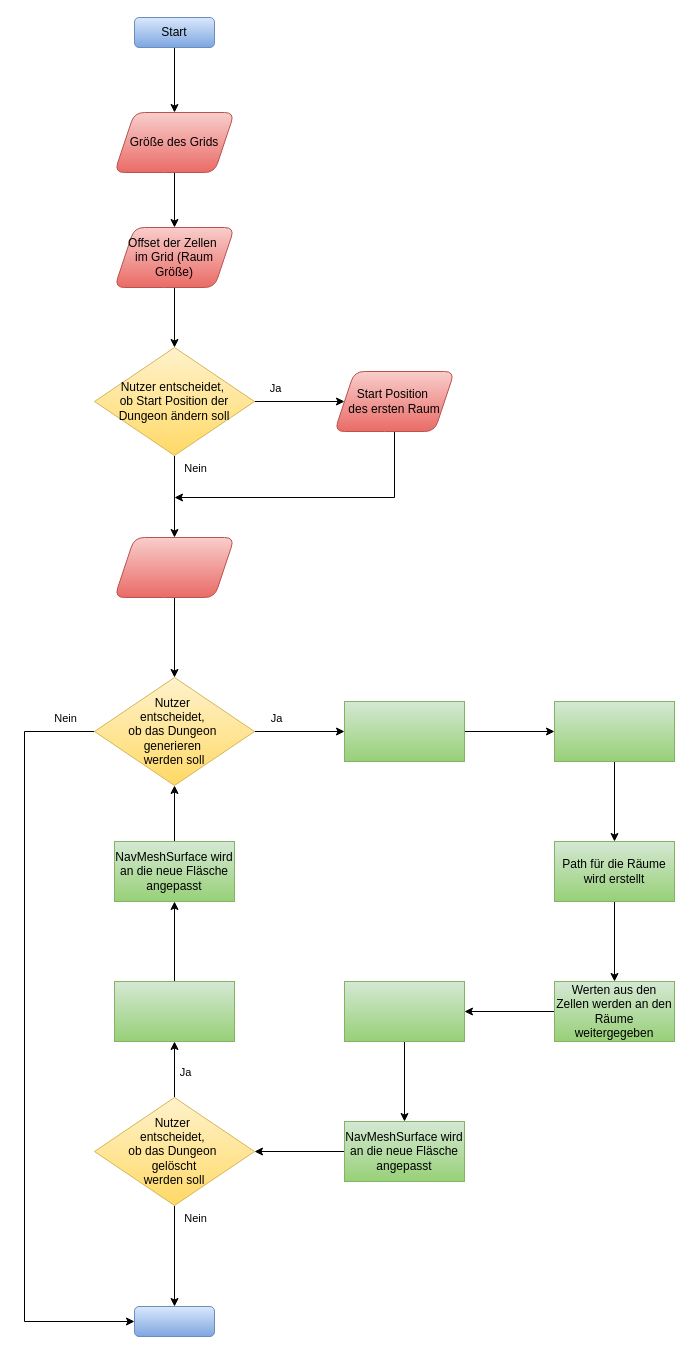
The diagram is 692 pixels wide and 1354 high, and some of its shapes have lost their labels. The shapes that lost their labels are listed below. From the top down, each one's centre as x and y in pixels, then its label:
point 174,567: Prefab der Räume
point 404,731: Werten der Eingabefelder werden von den Parametern weitergegeben
point 614,731: Grid von Zellen wird erstellt
point 174,1011: Alle Räume werden mid dem Grid gelöscht
point 404,1011: Räume werden Instanziiert
point 174,1321: End
